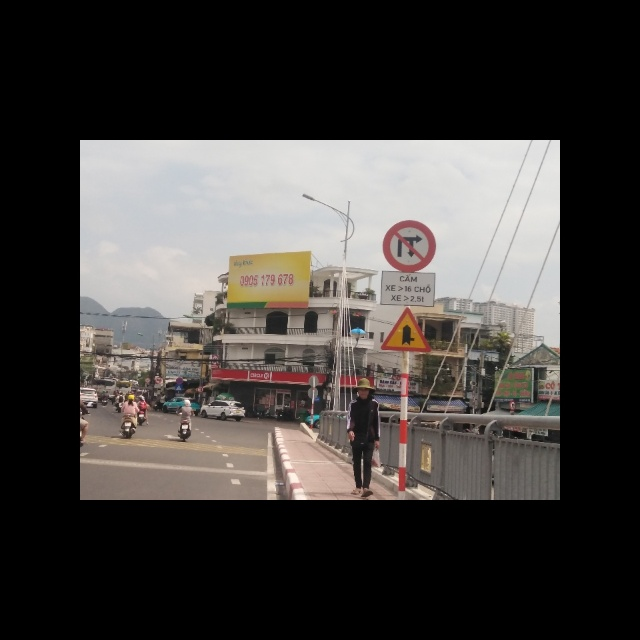Cấm quay đầu và rẽ phải: (380, 221, 434, 273)
Giao nhau với đường không ưu tiên: (380, 309, 432, 354)
